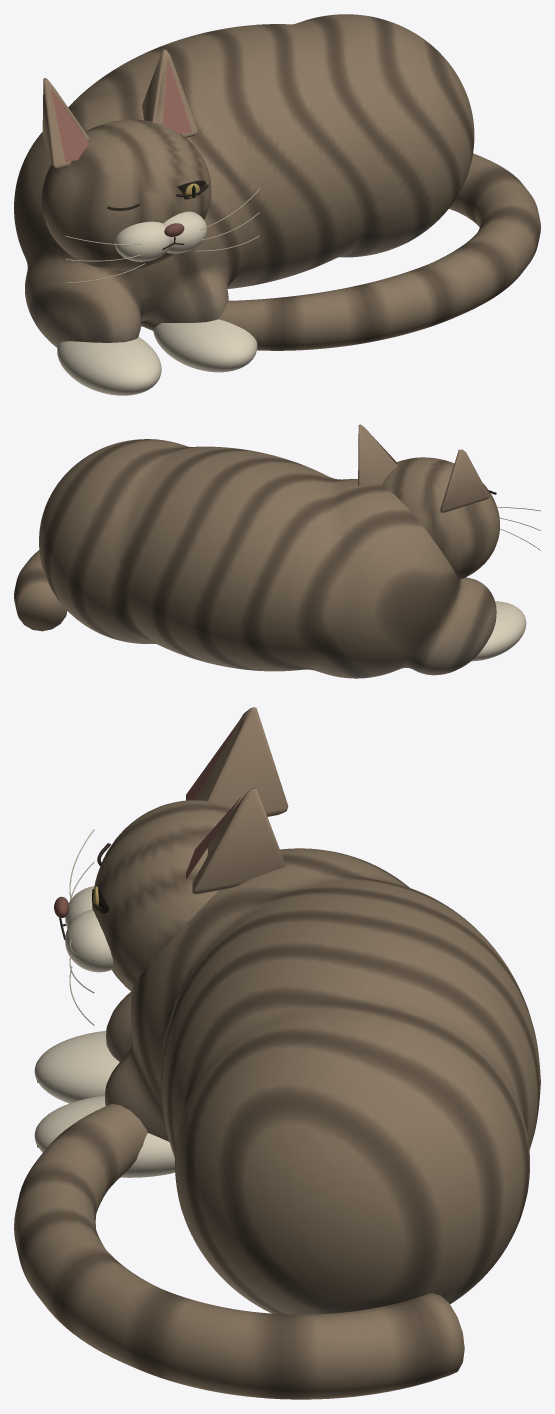
Rendered from sleeping_cat.glb.
3 renders of one model, top to bottom at view 1: azimuth 30°, elevation 25°; view 2: azimuth 150°, elevation 25°; view 3: azimuth 270°, elevation 25°, orthographic. The views are drawn at different scales.
Visible parts, largest first — view 1: Body, CurledTail, FaceAndPaws, Head; view 2: Body, Head, FaceAndPaws, CurledTail; view 3: Body, CurledTail, FaceAndPaws, Head.
Part boxes in pixels (left/top/right/bottom): Body: left=14, top=14, right=474, bottom=347; CurledTail: left=141, top=153, right=540, bottom=350; FaceAndPaws: left=42, top=49, right=259, bottom=395; Head: left=41, top=119, right=211, bottom=270; Body: left=39, top=439, right=496, bottom=678; Head: left=381, top=457, right=499, bottom=579; FaceAndPaws: left=358, top=424, right=540, bottom=661; CurledTail: left=14, top=550, right=67, bottom=631; Body: left=105, top=848, right=540, bottom=1314; CurledTail: left=14, top=1103, right=464, bottom=1399; FaceAndPaws: left=34, top=707, right=288, bottom=1177; Head: left=92, top=800, right=233, bottom=991.
Size of the model in its own units: 0.4952 by 0.2482 by 0.3099.
